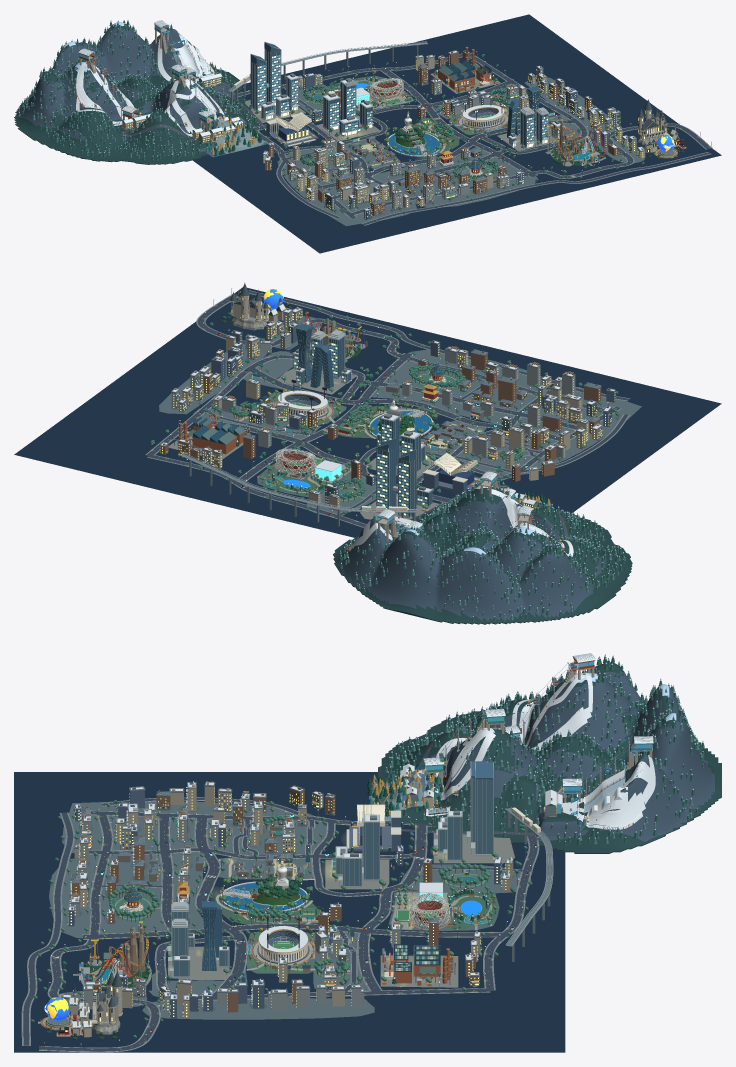
Rendered from beijing-world.glb.
The picture shows the model from 3 angles, top to bottom: view 1: azimuth 30°, elevation 25°; view 2: azimuth 150°, elevation 25°; view 3: azimuth 270°, elevation 25°; orthographic projection. The views are drawn at different scales.
Visible parts, largest first — view 1: World_Base__Terrain_BlueSlate, chongli_Terrain__Mountain_Slate, City_V16Ground__Ground_NeighborhoodStone, City_Streets__Road_Asphalt, chongli_Forest__Foliage_ChongliFir, City_Streets__Road_Sidewalk, Season_Snow__Snow, xierqi_V13Campus__City_V13Glass, City_Streets__Road_StoneCurb, City_ResidentialLayers__City_AgedBrick, chongli_Forest__Foliage_ChongliBlueFir, City_V15Homes__City_WarmPlaster (+36 smaller); view 2: World_Base__Terrain_BlueSlate, chongli_Terrain__Mountain_Slate, City_V16Ground__Ground_NeighborhoodStone, City_Streets__Road_Asphalt, chongli_Forest__Foliage_ChongliFir, City_Streets__Road_Sidewalk, City_ResidentialLayers__City_CoolPlaster, City_V15Homes__City_WarmPlaster, City_ResidentialLayers__City_AgedBrick, Season_Snow__Snow, City_Streets__Road_StoneCurb, xierqi_V13Campus__City_V13Glass (+30 smaller); view 3: World_Base__Terrain_BlueSlate, chongli_Terrain__Mountain_Slate, City_V16Ground__Ground_NeighborhoodStone, City_Streets__Road_Asphalt, City_Streets__Road_Sidewalk, chongli_Forest__Foliage_ChongliFir, Season_Snow__Snow, City_Streets__Road_StoneCurb, xierqi_V13Campus__City_V13Glass, chongli_Forest__Foliage_ChongliBlueFir, City_V15Homes__City_WarmPlaster, City_V15Homes__City_CoolPlaster (+40 smaller).
Part boxes in pixels (left/top/right/bottom): World_Base__Terrain_BlueSlate: left=193, top=14, right=721, bottom=253; chongli_Terrain__Mountain_Slate: left=14, top=22, right=260, bottom=164; City_V16Ground__Ground_NeighborhoodStone: left=278, top=77, right=644, bottom=226; City_Streets__Road_Asphalt: left=233, top=53, right=711, bottom=225; chongli_Forest__Foliage_ChongliFir: left=17, top=20, right=258, bottom=160; City_Streets__Road_Sidewalk: left=235, top=53, right=712, bottom=225; Season_Snow__Snow: left=203, top=51, right=643, bottom=210; xierqi_V13Campus__City_V13Glass: left=250, top=42, right=298, bottom=118; City_Streets__Road_StoneCurb: left=233, top=53, right=711, bottom=225; City_ResidentialLayers__City_AgedBrick: left=269, top=55, right=599, bottom=215; chongli_Forest__Foliage_ChongliBlueFir: left=18, top=20, right=251, bottom=158; City_V15Homes__City_WarmPlaster: left=263, top=55, right=645, bottom=208; World_Base__Terrain_BlueSlate: left=14, top=287, right=721, bottom=537; chongli_Terrain__Mountain_Slate: left=333, top=486, right=632, bottom=624; City_V16Ground__Ground_NeighborhoodStone: left=159, top=316, right=641, bottom=515; City_Streets__Road_Asphalt: left=146, top=290, right=629, bottom=526; chongli_Forest__Foliage_ChongliFir: left=339, top=485, right=624, bottom=621; City_Streets__Road_Sidewalk: left=145, top=290, right=629, bottom=527; City_ResidentialLayers__City_CoolPlaster: left=222, top=334, right=575, bottom=458; City_V15Homes__City_WarmPlaster: left=182, top=307, right=602, bottom=480; City_ResidentialLayers__City_AgedBrick: left=190, top=333, right=601, bottom=481; Season_Snow__Snow: left=161, top=308, right=614, bottom=504; City_Streets__Road_StoneCurb: left=148, top=290, right=629, bottom=527; xierqi_V13Campus__City_V13Glass: left=376, top=438, right=432, bottom=516; World_Base__Terrain_BlueSlate: left=14, top=772, right=565, bottom=1052; chongli_Terrain__Mountain_Slate: left=378, top=662, right=721, bottom=853; City_V16Ground__Ground_NeighborhoodStone: left=49, top=801, right=531, bottom=1019; City_Streets__Road_Asphalt: left=23, top=797, right=537, bottom=1051; City_Streets__Road_Sidewalk: left=21, top=797, right=539, bottom=1052; chongli_Forest__Foliage_ChongliFir: left=386, top=654, right=704, bottom=845; Season_Snow__Snow: left=59, top=770, right=512, bottom=999; City_Streets__Road_StoneCurb: left=22, top=797, right=538, bottom=1051; xierqi_V13Campus__City_V13Glass: left=438, top=761, right=493, bottom=859; chongli_Forest__Foliage_ChongliBlueFir: left=385, top=656, right=703, bottom=844; City_V15Homes__City_WarmPlaster: left=60, top=782, right=480, bottom=1018; City_V15Homes__City_CoolPlaster: left=80, top=818, right=364, bottom=1011.
Bounding box in the file's own units: 133 × 16.31 × 113.
